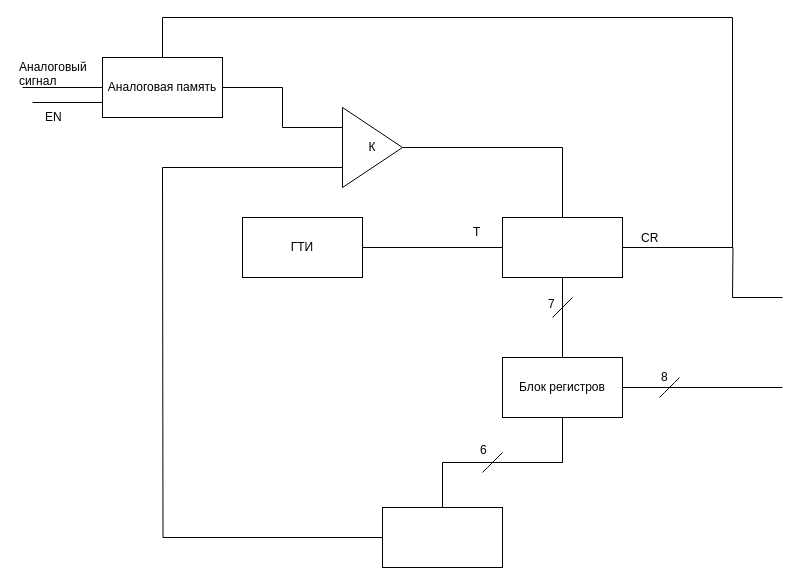
Image size: 801x585. Some labels were removed from this diagram. Here are the shapes that lost their labels. From the top down, the centre of each, then its label:
[562,247]: Схема управления
[442,537]: ЦАП
